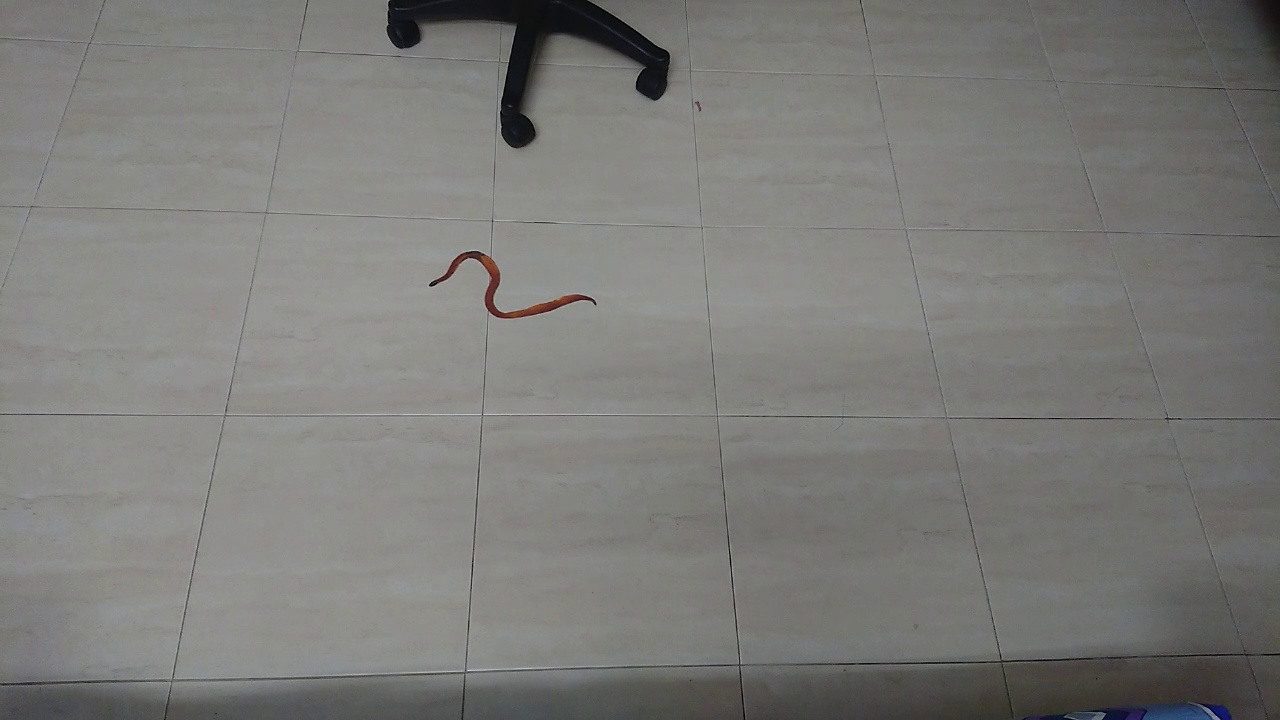snake: (411, 232, 618, 341)
